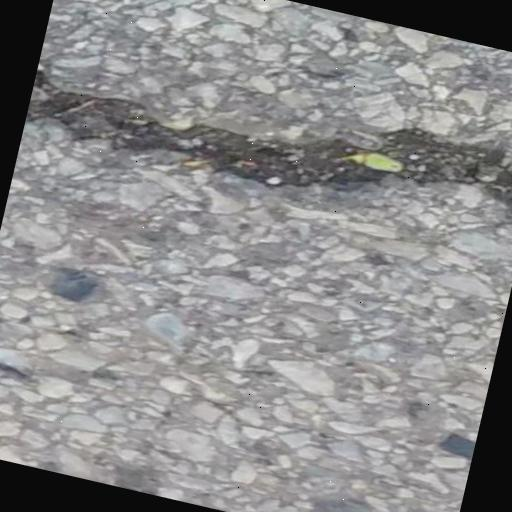spalling: (28, 61, 512, 216)
